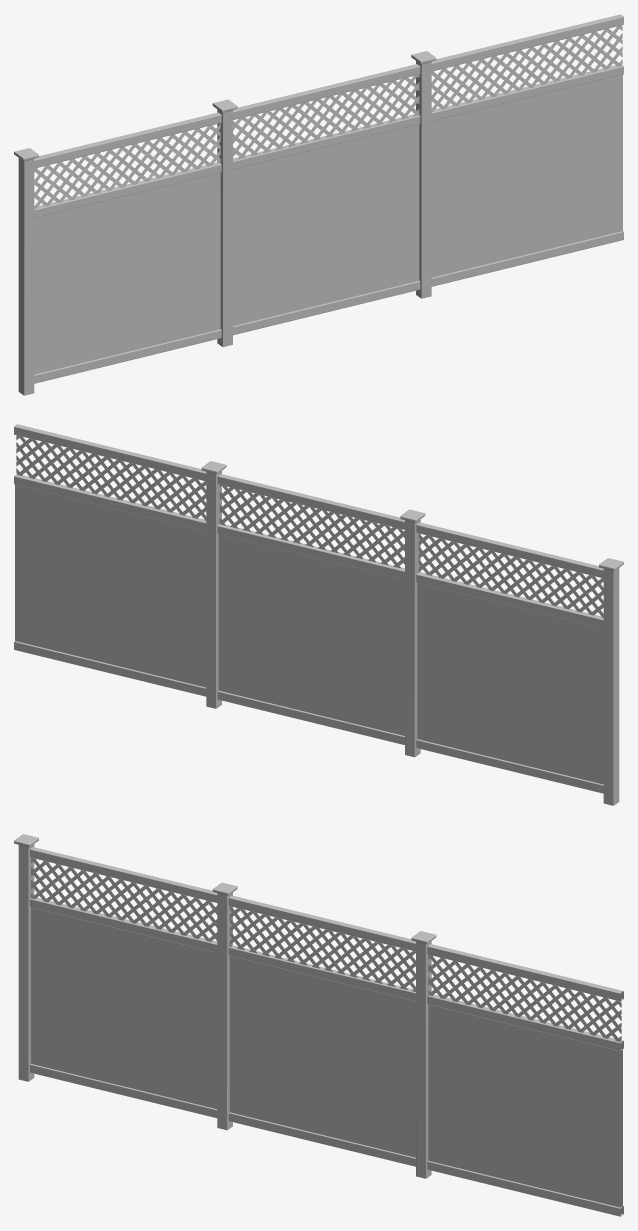
Rendered from OutsideFence_B_600.fbx.
3 views of the same model, one above another, from view 1: azimuth 30°, elevation 25°; view 2: azimuth 150°, elevation 25°; view 3: azimuth 330°, elevation 25° (orthographic).
Parts seen in each view (by area): view 1: OutsideFence_B_600; view 2: OutsideFence_B_600; view 3: OutsideFence_B_600.
Part boxes in pixels (box(x1,y1,x2,y2)): OutsideFence_B_600: box(14, 14, 623, 395); OutsideFence_B_600: box(14, 424, 623, 805); OutsideFence_B_600: box(14, 834, 623, 1216).
Bounding box in the file's own units: 608 × 230 × 17.2.
